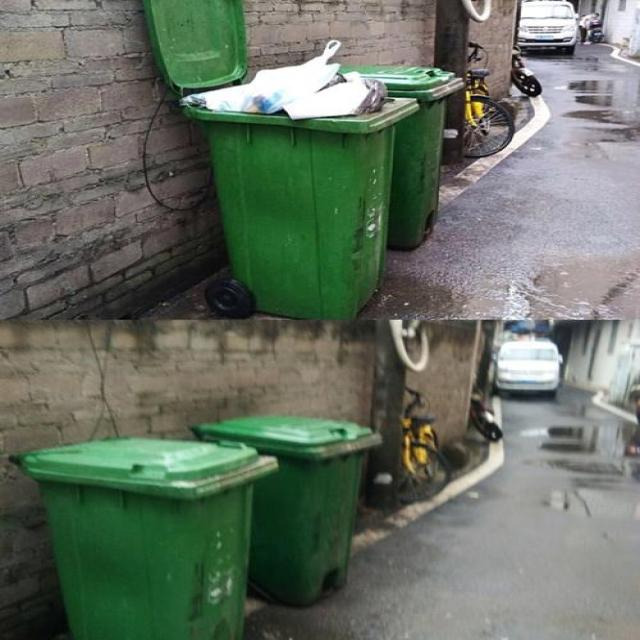garbage_bin: (10, 438, 278, 639), (192, 417, 381, 605), (339, 65, 464, 248)
overflow: (183, 40, 416, 317)
